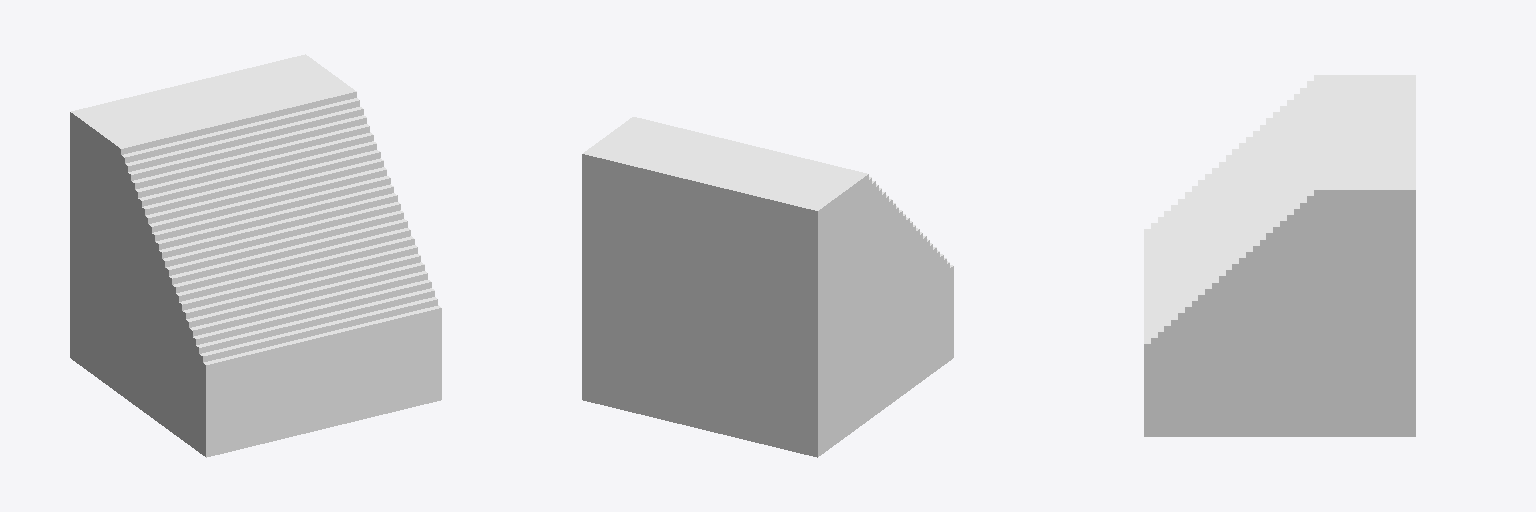
Rendered from block1.4slide.obj.
3 renders of one model, left to right at view 1: azimuth 30°, elevation 25°; view 2: azimuth 150°, elevation 25°; view 3: azimuth 270°, elevation 25°, orthographic.
Visible parts, largest first — view 1: object 1; view 2: object 1; view 3: object 1.
Boxes of the visible parts, <box> form: object 1: <box>70,54,441,457</box>; object 1: <box>582,117,953,457</box>; object 1: <box>1144,75,1415,436</box>.
Size of the model in its own units: 4 by 4 by 4.